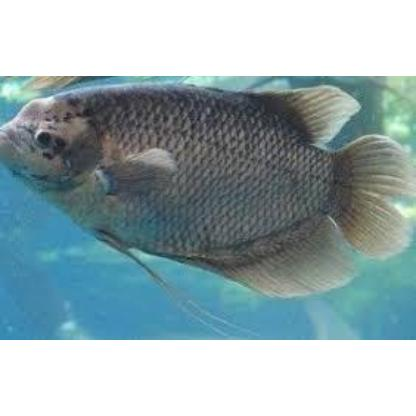gurame: (0, 80, 414, 297)
